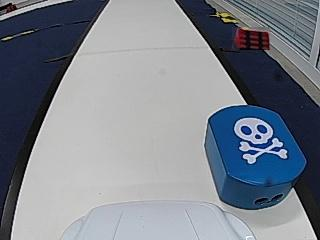danger: (233, 118, 287, 163)
